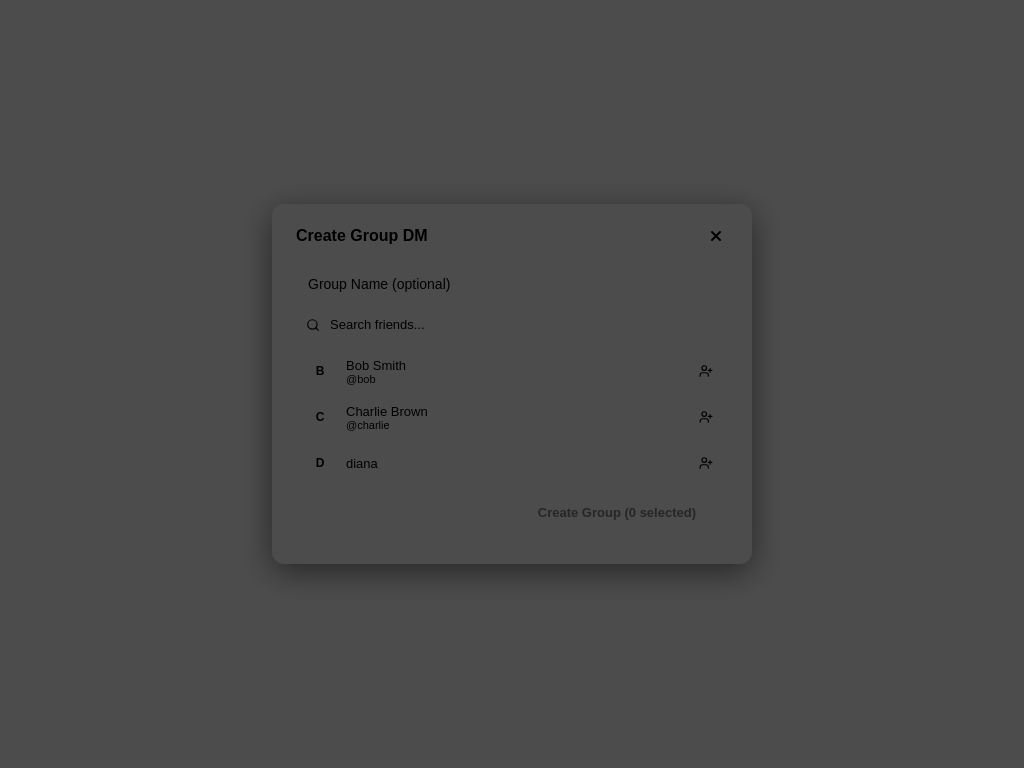
Scenario: CreateGroupModal › filters friends by search query
In the field with placeholder "Search friends...": (523, 324) [328, 316, 718, 333], type "bob"
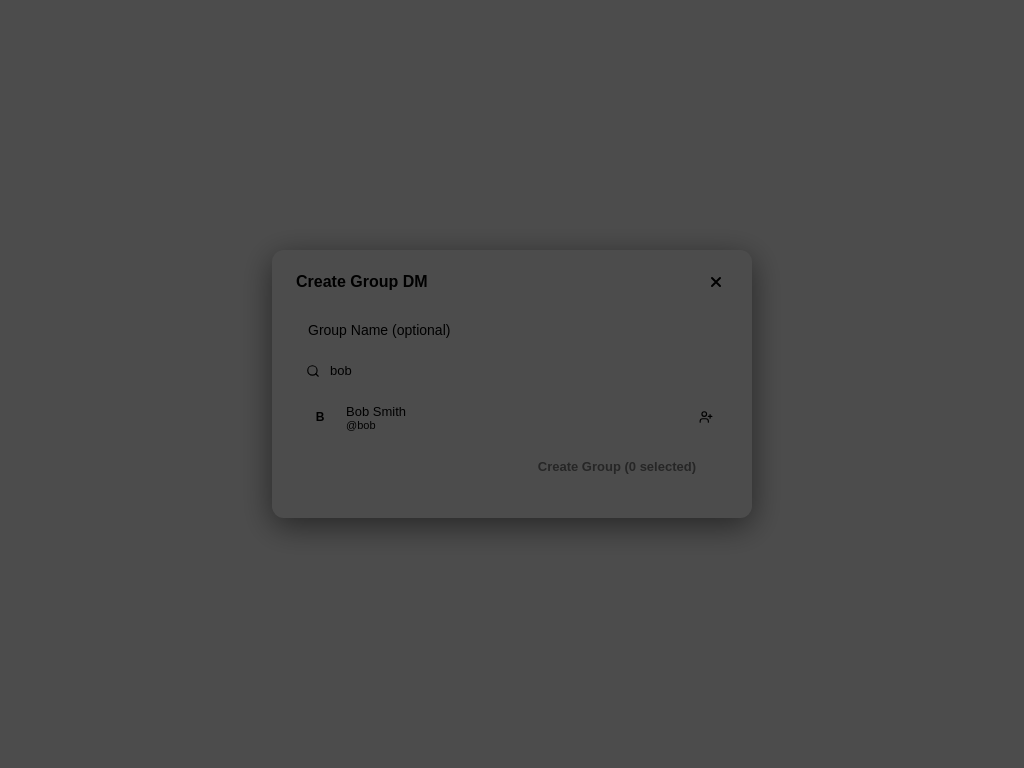
Expected: the text "Bob Smith" is shown, [346, 404, 406, 418]
Result: the text "Charlie Brown" is gone
